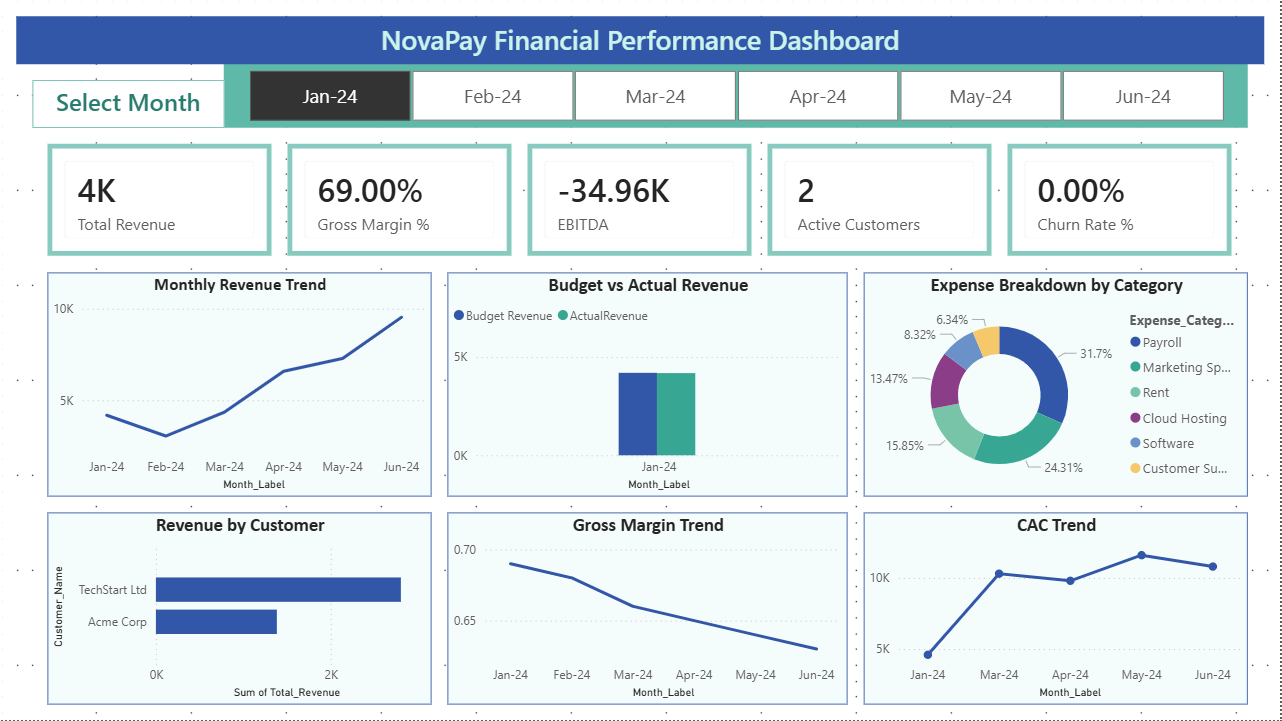

Layout of this report page (visuals, bound fields, positions):
{"tool":"powerbi","page":{"name":"Executive Dashboard","canvas":[1280,720],"ordinal":0},"visuals":[{"type":"slicer","fields":{"Values":["tblDate.Month_Label"]},"box":[224,64,1024,64],"z":0},{"type":"cardVisual","fields":{"Data":["Monthly_Summary.Total Revenue"]},"box":[48,144,224,112],"z":1000},{"type":"cardVisual","fields":{"Data":["Monthly_Summary.Gross Margin %"]},"box":[288,144,224,112],"z":2000},{"type":"cardVisual","fields":{"Data":["Monthly_Summary.Total EBITDA"]},"box":[528,144,224,112],"z":3000},{"type":"cardVisual","fields":{"Data":["tblKPI.Active Customers KPI"]},"box":[768,144,224,112],"z":4000},{"type":"cardVisual","fields":{"Data":["tblKPI.Churn Rate %"]},"box":[1008,144,224,112],"z":5000},{"type":"lineChart","title":"Monthly Revenue Trend","fields":{"Category":["tblDate.Month_Label"],"Y":["Sum(Monthly_Summary.Actual_Revenue)"]},"box":[48,272,384,224],"z":6000},{"type":"clusteredColumnChart","title":"Budget vs Actual Revenue","fields":{"Category":["tblDate.Month_Label"],"Y":["Sum(Budget_vs_Actual.Budget_Revenue)","Sum(Budget_vs_Actual.Actual_Revenue)"]},"box":[448,272,400,224],"z":7000},{"type":"donutChart","title":"Expense Breakdown by Category","fields":{"Category":["tblExpenses.Expense_Category"],"Y":["Sum(tblExpenses.Actual_Expense)"]},"box":[864,272,384,224],"z":8000},{"type":"barChart","title":"Revenue by Customer","fields":{"Category":["tblCustomers.Customer_Name"],"Y":["Sum(tblRevenue.Total_Revenue)"]},"box":[48,512,384,192],"z":9000},{"type":"lineChart","title":"Gross Margin Trend","fields":{"Category":["tblDate.Month_Label"],"Y":["Avg(tblKPI.Gross_Margin)"]},"box":[448,512,400,192],"z":10000},{"type":"lineChart","title":"CAC Trend","fields":{"Category":["tblDate.Month_Label"],"Y":["Avg(tblKPI.CAC)"]},"box":[864,512,384,192],"z":11000},{"type":"textbox","box":[32,80,192,48],"z":12000},{"type":"textbox","box":[16,16,1248,48],"z":13000}]}

Visuals, with their boxes in screenshot pixels (x1, y1, x2, y2), scaled from the page's 1280x720 canvas onto the 1282x721 screenshot:
slicer - tblDate.Month_Label: x1=224 y1=64 x2=1250 y2=128
cardVisual - Monthly_Summary.Total Revenue: x1=48 y1=144 x2=272 y2=256
cardVisual - Monthly_Summary.Gross Margin %: x1=288 y1=144 x2=513 y2=256
cardVisual - Monthly_Summary.Total EBITDA: x1=529 y1=144 x2=753 y2=256
cardVisual - tblKPI.Active Customers KPI: x1=769 y1=144 x2=994 y2=256
cardVisual - tblKPI.Churn Rate %: x1=1010 y1=144 x2=1234 y2=256
"Monthly Revenue Trend" lineChart: x1=48 y1=272 x2=433 y2=497
"Budget vs Actual Revenue" clusteredColumnChart: x1=449 y1=272 x2=849 y2=497
"Expense Breakdown by Category" donutChart: x1=865 y1=272 x2=1250 y2=497
"Revenue by Customer" barChart: x1=48 y1=513 x2=433 y2=705
"Gross Margin Trend" lineChart: x1=449 y1=513 x2=849 y2=705
"CAC Trend" lineChart: x1=865 y1=513 x2=1250 y2=705
textbox: x1=32 y1=80 x2=224 y2=128
textbox: x1=16 y1=16 x2=1266 y2=64
